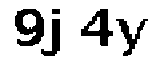4: (77, 5, 114, 49)
9: (11, 5, 46, 49)
j: (44, 5, 67, 60)
y: (116, 13, 148, 60)
